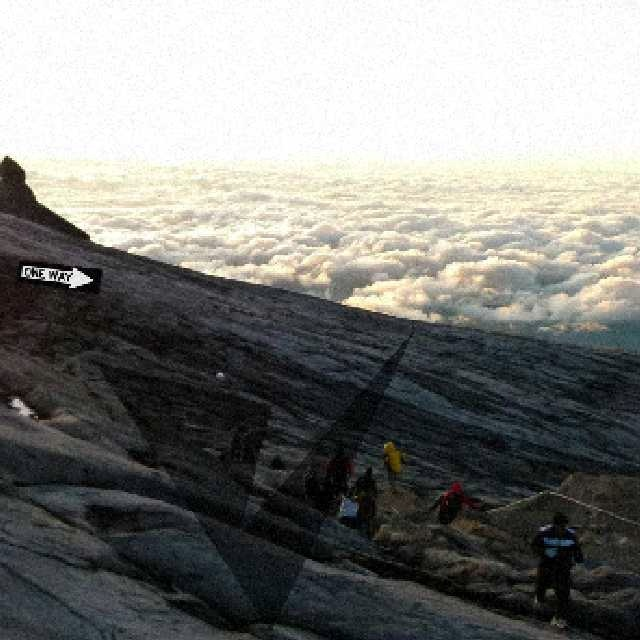ONE_WAY_ right: (15, 258, 101, 293)
